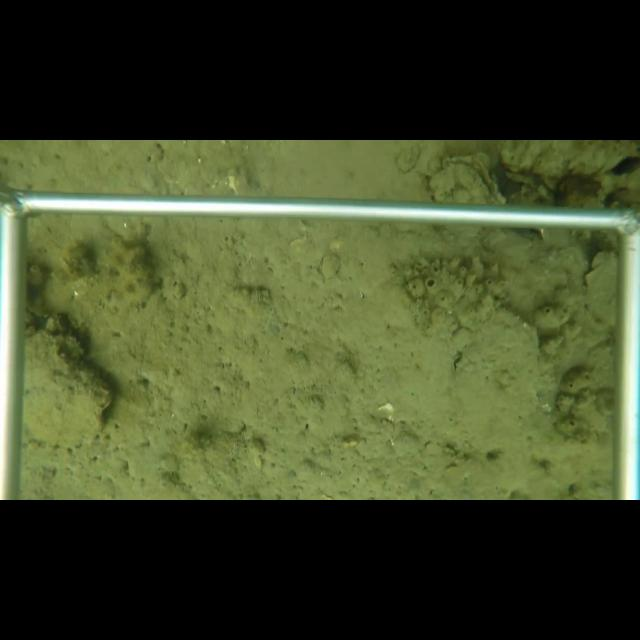Oyster-Closed: (24, 330, 115, 449), (454, 306, 541, 414), (321, 254, 344, 282)
Oyster-Open: (424, 154, 511, 206), (448, 353, 466, 379)
